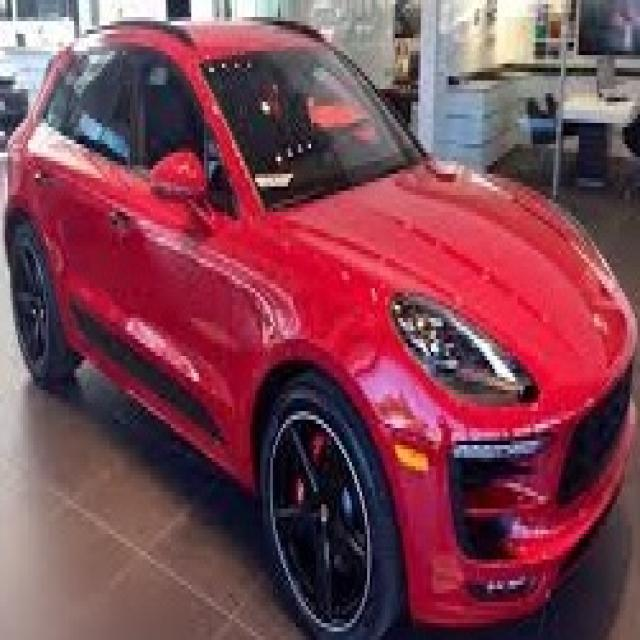red: (2, 22, 635, 630)
